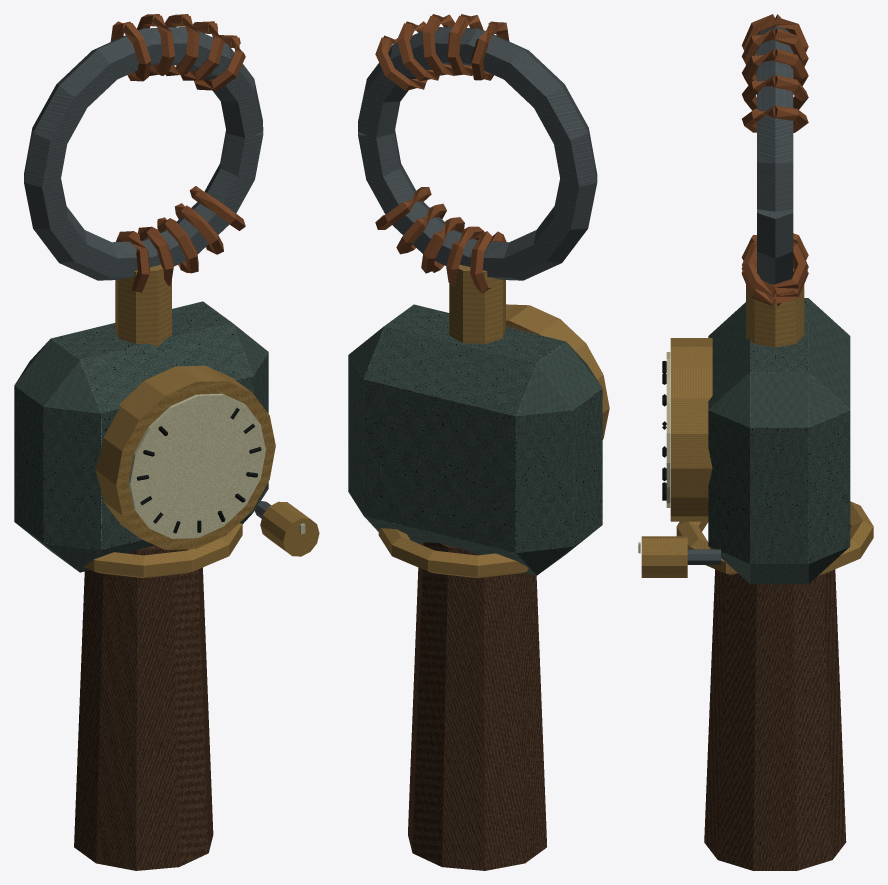
The model's file is blender_ritual_anchor_meter_1.glb.
3 renders of one model, left to right at view 1: azimuth 30°, elevation 25°; view 2: azimuth 150°, elevation 25°; view 3: azimuth 270°, elevation 25°, orthographic.
Parts seen in each view (by area): view 1: blender_ritual_anchor_meter_1; view 2: blender_ritual_anchor_meter_1; view 3: blender_ritual_anchor_meter_1.
Part boxes in pixels (x1,y1,x2,y2): blender_ritual_anchor_meter_1: (14, 14, 319, 870); blender_ritual_anchor_meter_1: (348, 14, 609, 870); blender_ritual_anchor_meter_1: (638, 14, 873, 870).
Bounding box in the file's own units: 0.0659 × 0.2165 × 0.0564.
8 materials, 8 textured.
